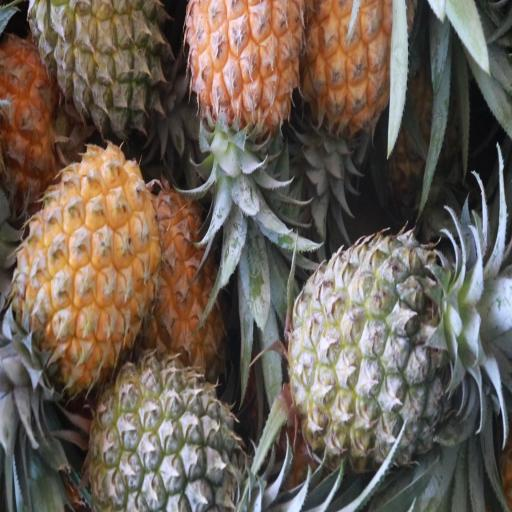------------------------------: (37, 0, 171, 135)
Pineapple - v8 v1: (9, 147, 155, 392), (146, 192, 236, 378), (187, 0, 302, 142), (299, 0, 409, 142)
